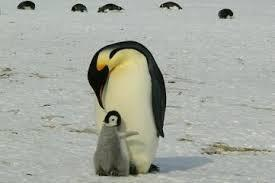emporer: (79, 35, 174, 183)
